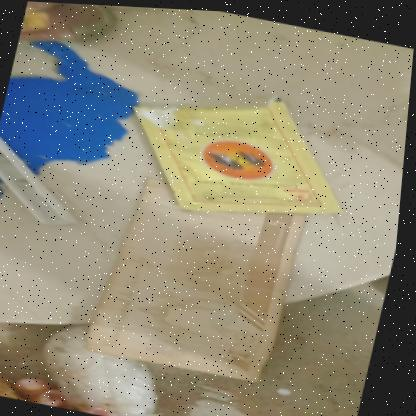vef_back: (87, 170, 312, 382)
